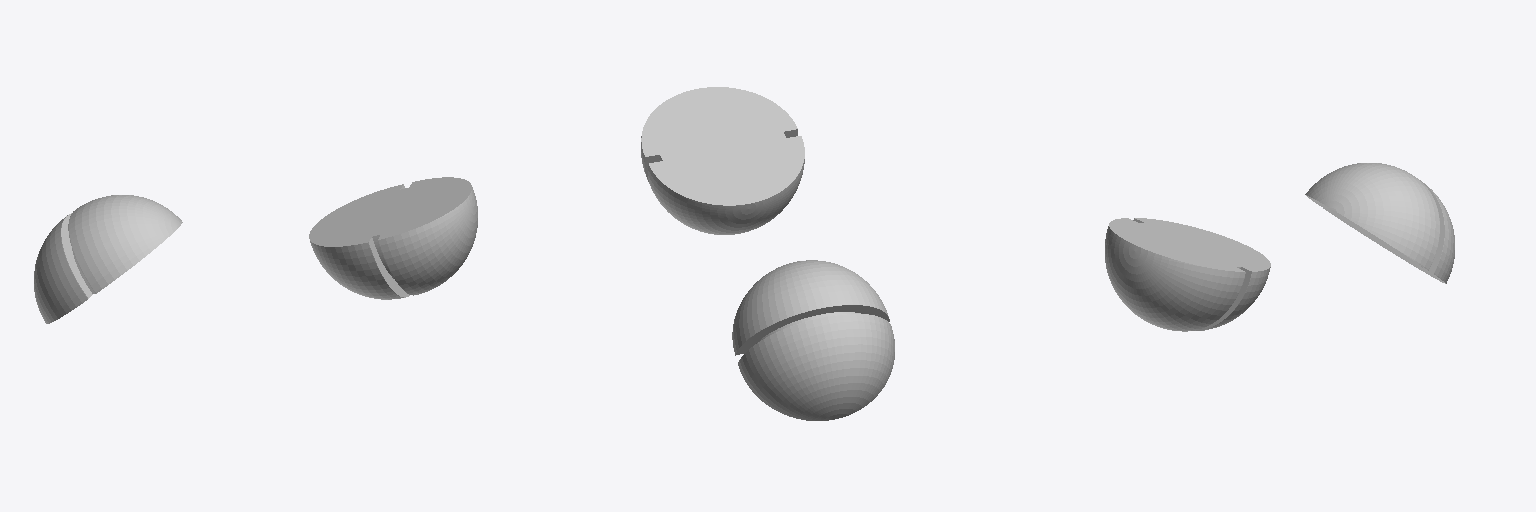
Rendered from Drone166_000016.obj.
The picture shows the model from 3 angles: view 1: azimuth 30°, elevation 25°; view 2: azimuth 150°, elevation 25°; view 3: azimuth 270°, elevation 25°; orthographic projection.
Visible parts, largest first — view 1: Sphere.001_Sphere.005, Sphere.000_Sphere.004; view 2: Sphere.000_Sphere.004, Sphere.001_Sphere.005; view 3: Sphere.001_Sphere.005, Sphere.000_Sphere.004.
Boxes of the visible parts, box(x1,y1,x2,y2) form: Sphere.001_Sphere.005: box(309, 177, 477, 299); Sphere.000_Sphere.004: box(34, 195, 182, 323); Sphere.000_Sphere.004: box(732, 260, 894, 420); Sphere.001_Sphere.005: box(641, 87, 804, 234); Sphere.001_Sphere.005: box(1105, 218, 1270, 331); Sphere.000_Sphere.004: box(1305, 163, 1454, 283).
Bounding box in the file's own units: 4.7 × 2.2 × 4.36.